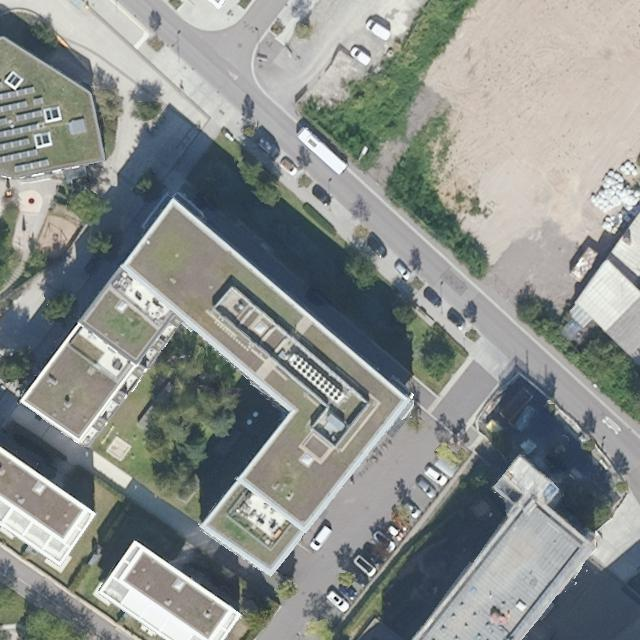PV: (0, 144, 40, 166), (0, 120, 41, 139), (13, 156, 52, 175), (0, 84, 38, 102), (1, 134, 32, 153), (15, 106, 46, 124), (31, 94, 45, 107), (1, 115, 10, 127)
